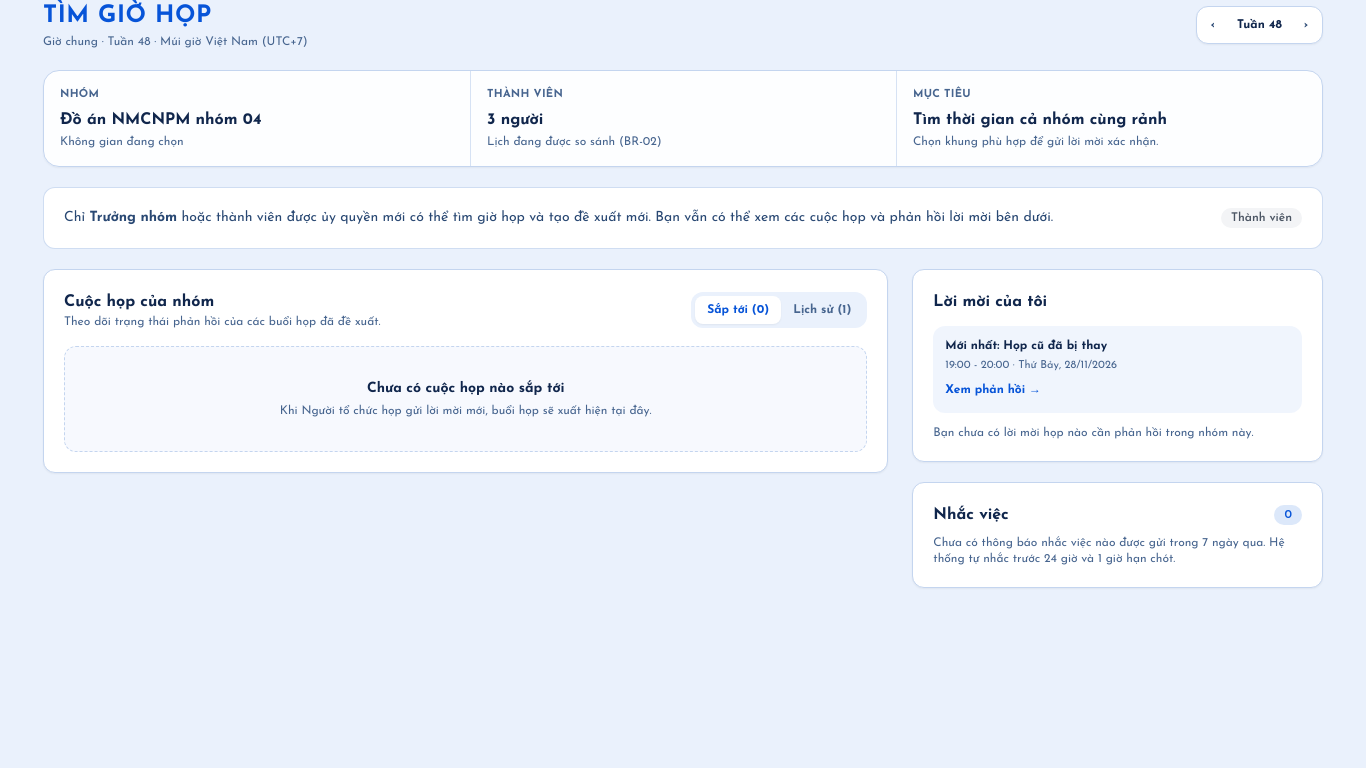
MeetingsPage (TV4) › ẩn nút phản hồi trong modal chi tiết khi đề xuất đã bị thay thế mà chưa Đủ người
Click the button "Xem phản hồi →" at (993, 390), box [945,382,1041,398]
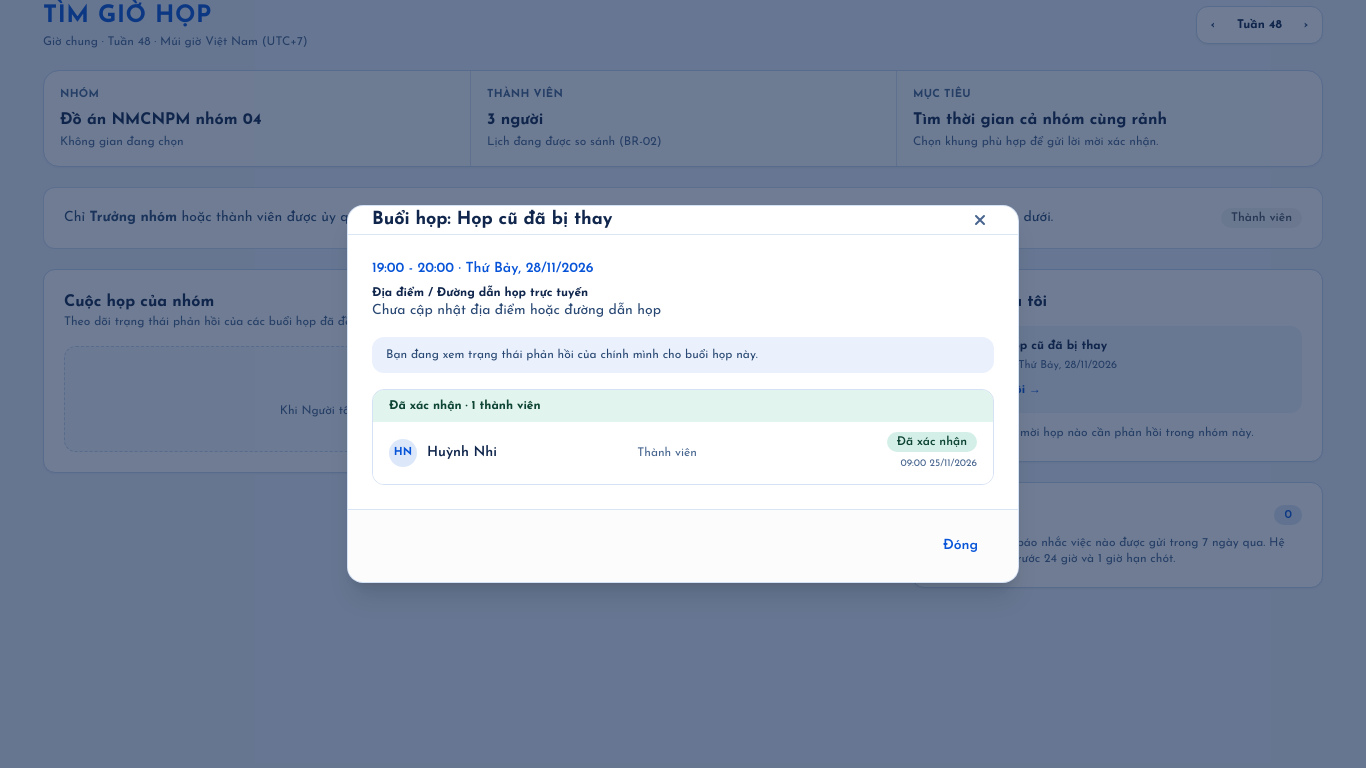
Expected: the text "Huỳnh Nhi" is shown, [427,443,497,463]
